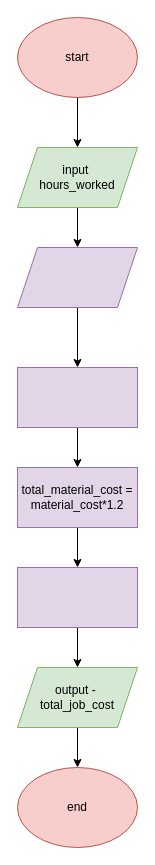
This 155x865 diagram has some shape labels left out. The shapes that lost their labels are listed below. From the top down, each one's centre as x and y in pixels, then its label:
At (77,277): "input material_cost".
At (77,397): "labor_cost = hours_worked*30".
At (77,597): "total_job_cost = total_material_cost + labor_cost".
